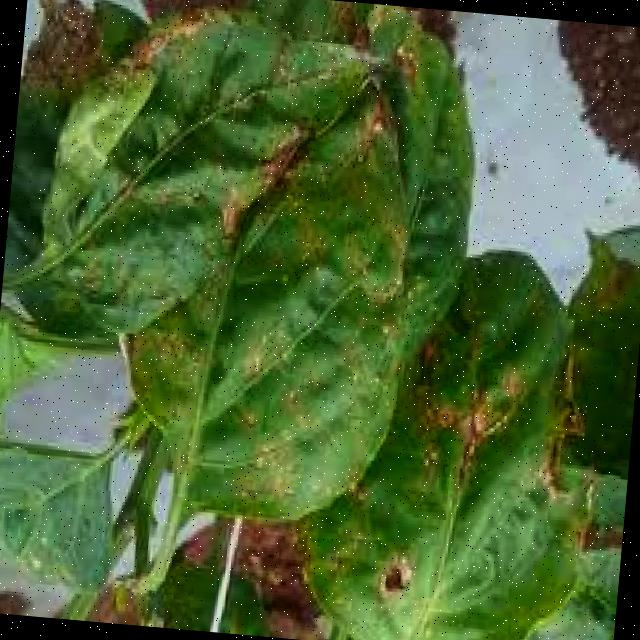leaf spot: (21, 0, 396, 347), (340, 312, 597, 640)
